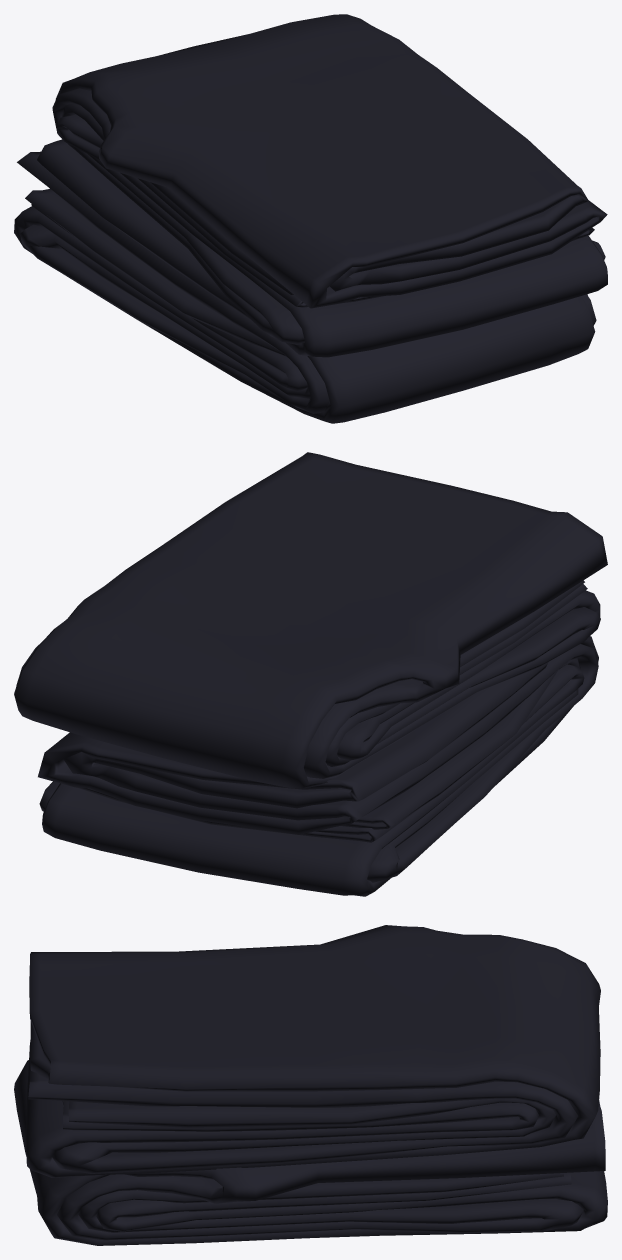
File: Folded_Pant20.fbx
3 views of the same model, one above another, from view 1: azimuth 30°, elevation 25°; view 2: azimuth 150°, elevation 25°; view 3: azimuth 270°, elevation 25° (orthographic). The views are drawn at different scales.
Parts seen in each view (by area): view 1: Folded_Pant20; view 2: Folded_Pant20; view 3: Folded_Pant20.
Part boxes in pixels (bbox=[...]): Folded_Pant20: bbox=[14, 14, 607, 423]; Folded_Pant20: bbox=[14, 452, 607, 896]; Folded_Pant20: bbox=[14, 925, 607, 1245].
Bounding box in the file's own units: 25.03 × 11.51 × 34.5.
1 material, 1 textured.
